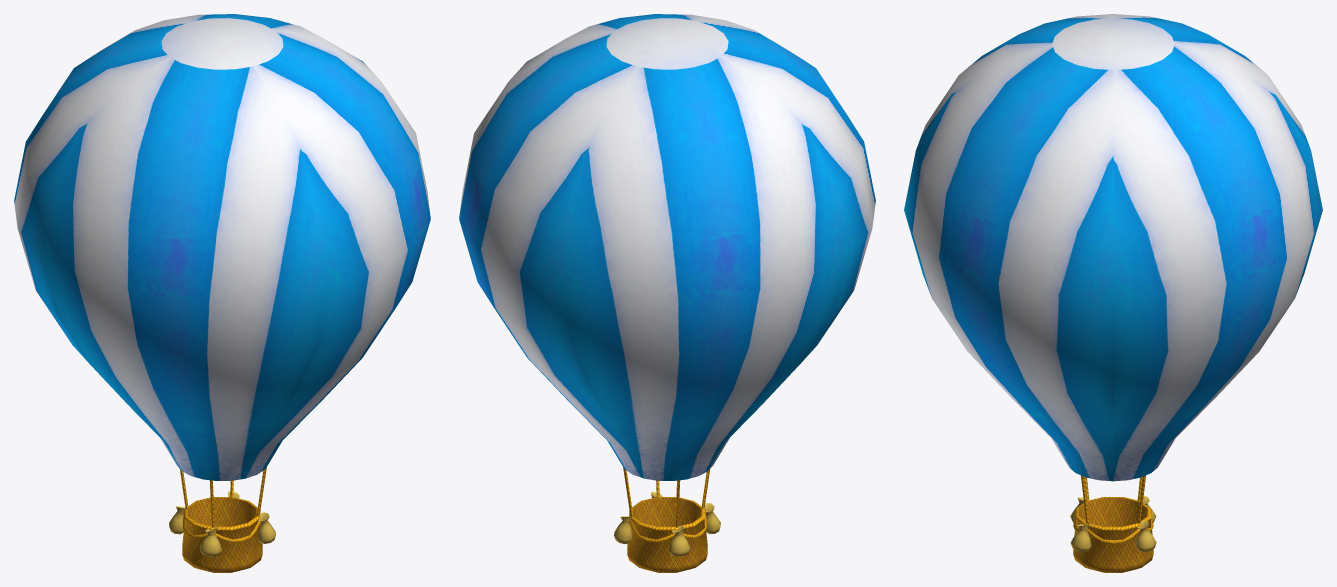
The model's file is HOS0910007.fbx.
3 views of the same model, side by side, from view 1: azimuth 30°, elevation 25°; view 2: azimuth 150°, elevation 25°; view 3: azimuth 270°, elevation 25° (orthographic).
Visible parts, largest first — view 1: smHOS0910007; view 2: smHOS0910007; view 3: smHOS0910007.
Part boxes in pixels (<box>): smHOS0910007: <box>14,14,430,572</box>; smHOS0910007: <box>459,14,875,572</box>; smHOS0910007: <box>904,14,1322,572</box>.
Bounding box in the file's own units: 961 × 1321 × 961.
Materials: 1 (1 with a texture image).
